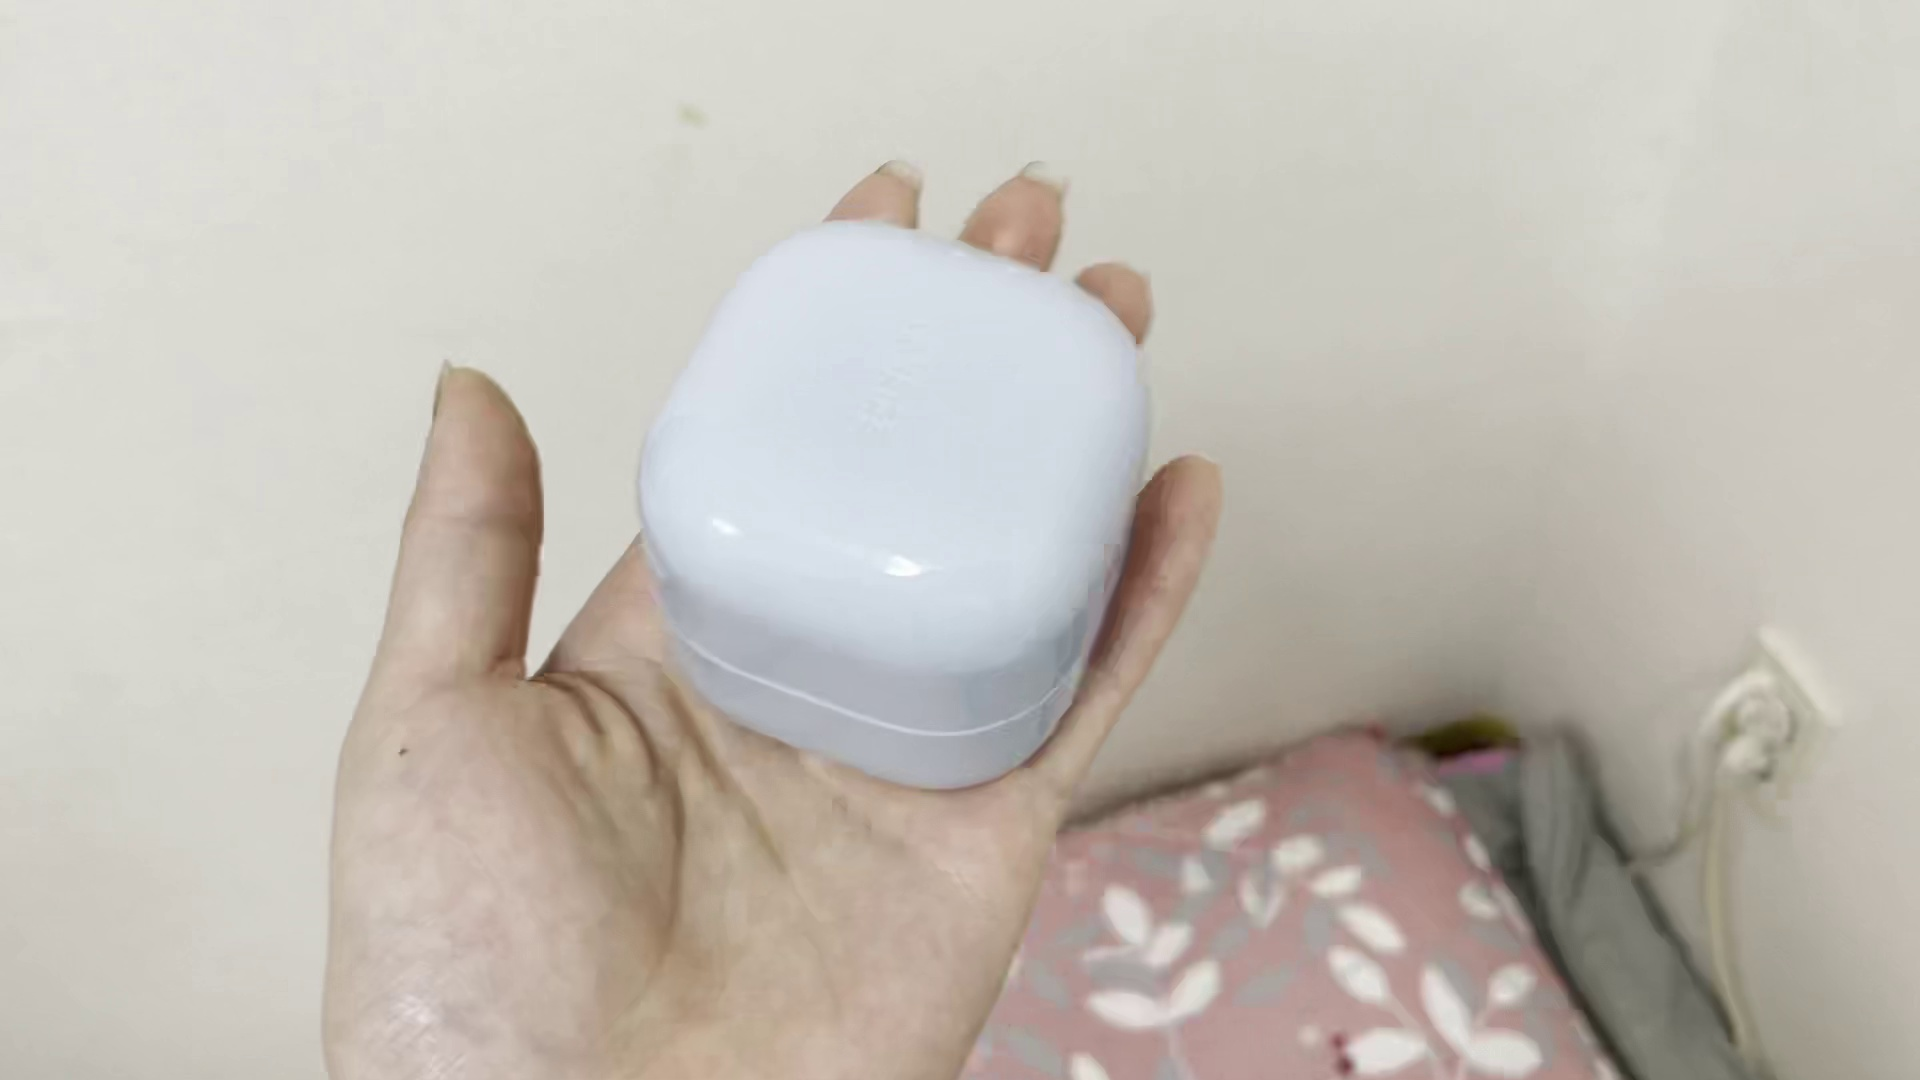cream: (638, 223, 1149, 794)
